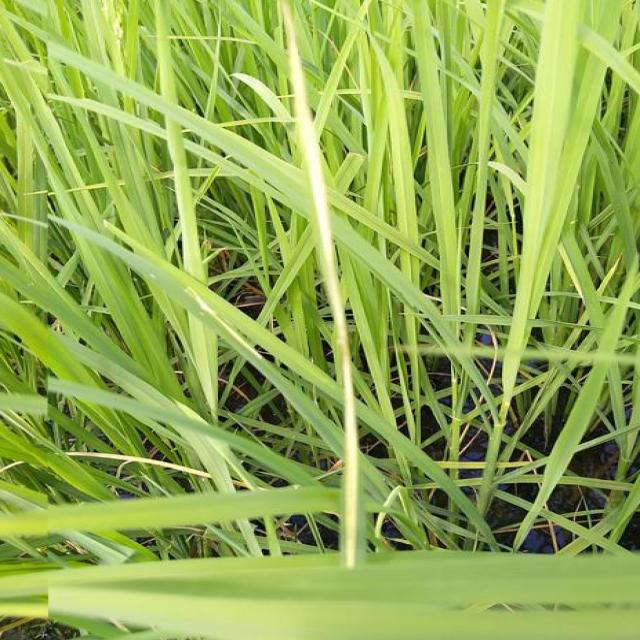Leaf Blight: (281, 0, 360, 570)
